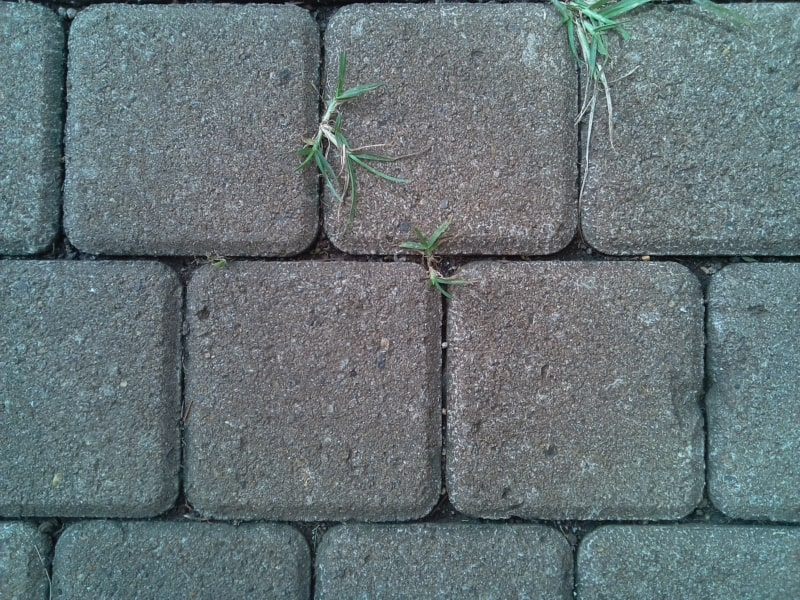Weed: (549, 1, 648, 115), (307, 86, 372, 189), (410, 232, 458, 285)
